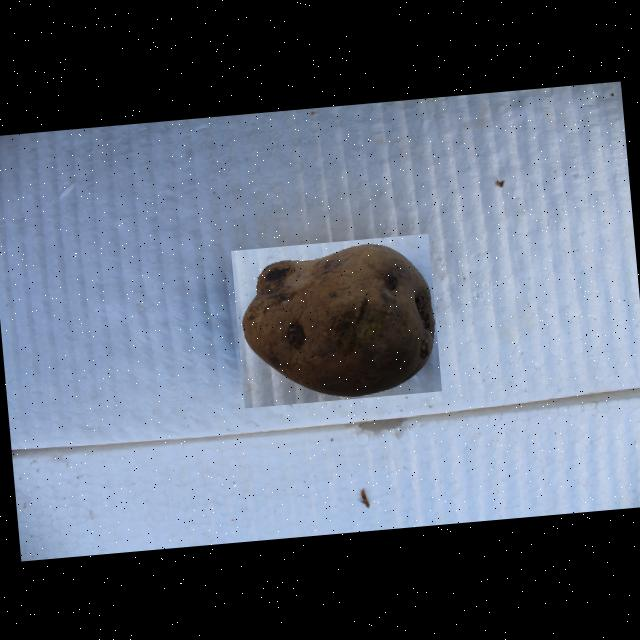Diseased-fungal potato: (230, 232, 440, 407)
